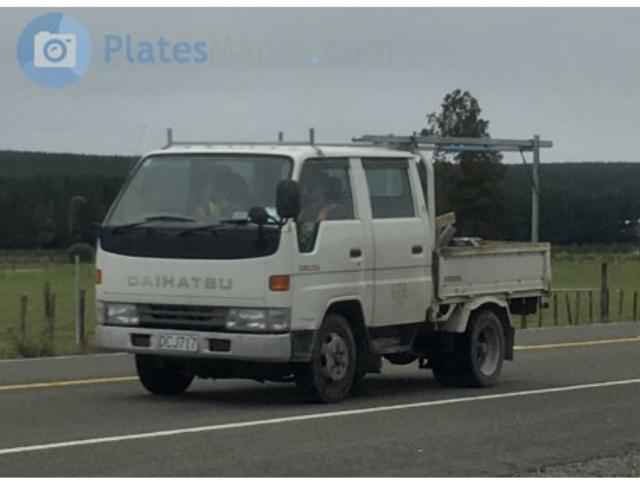Rego: (153, 332, 200, 355)
